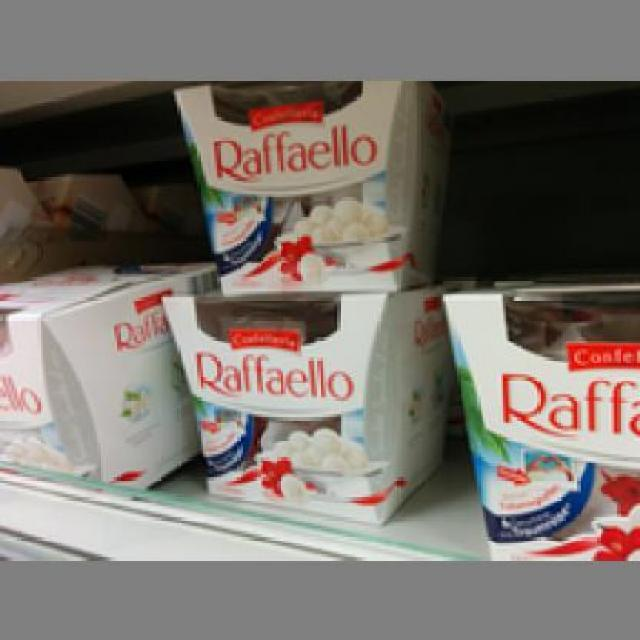Candy: (156, 289, 432, 520), (434, 282, 637, 558), (171, 79, 426, 292), (0, 260, 215, 489)
